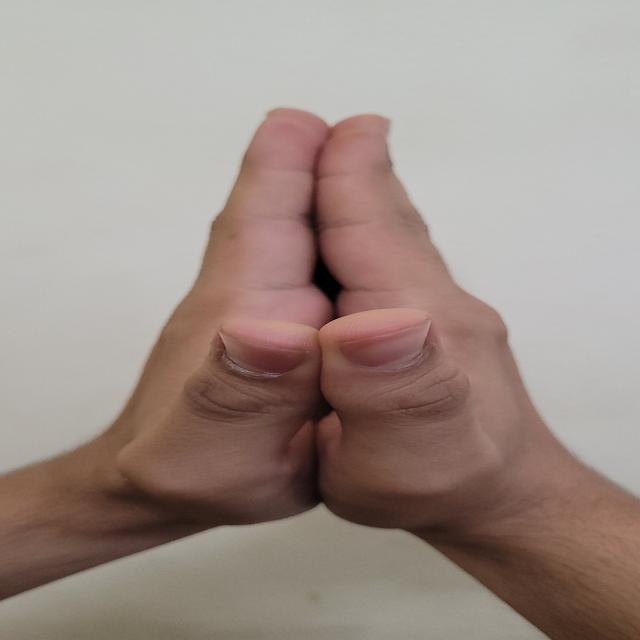Thank You: (79, 45, 564, 554)
